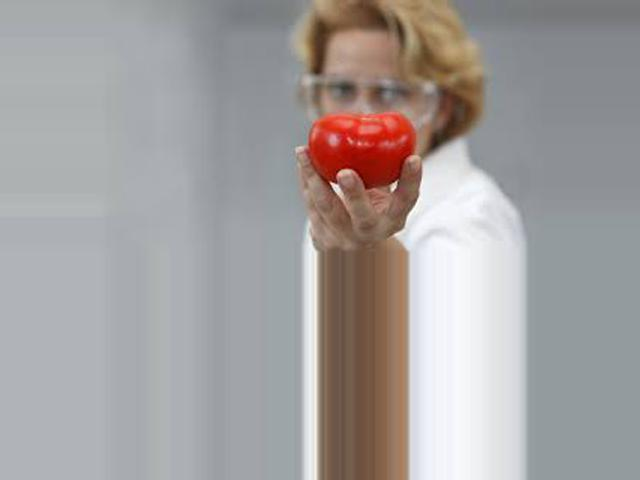tomato: (309, 114, 418, 187)
